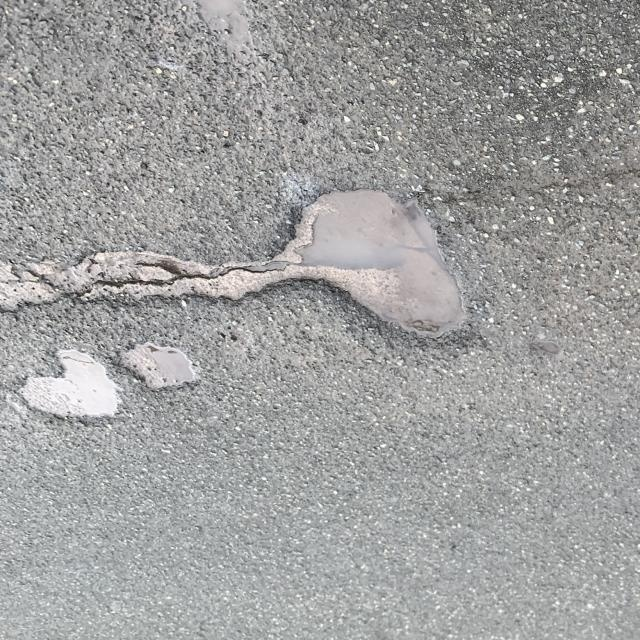pothole: (0, 173, 538, 439)
